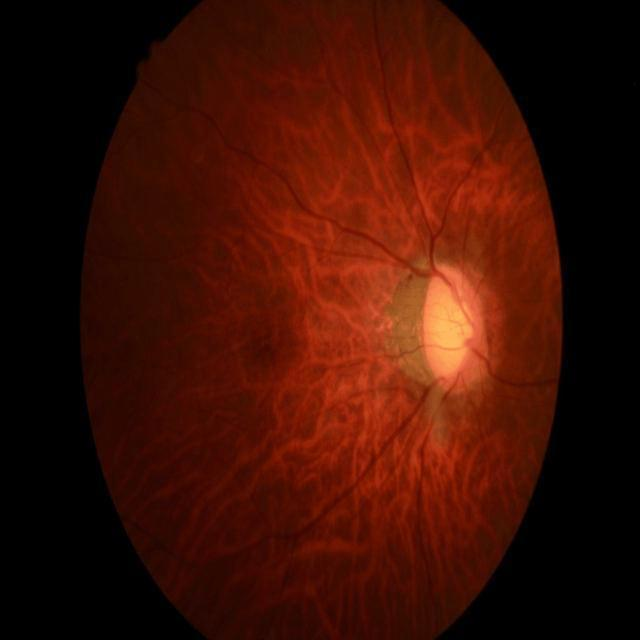cup: (426, 276, 474, 376)
disk: (422, 260, 486, 388)
